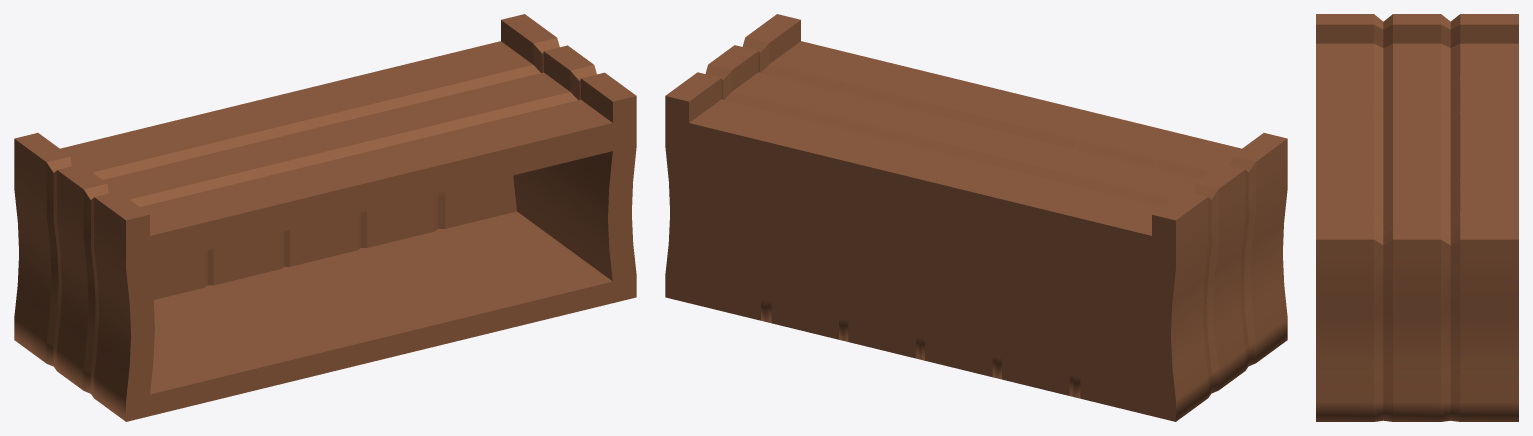
File: Estanteria2.fbx
3 renders of one model, left to right at view 1: azimuth 30°, elevation 25°; view 2: azimuth 150°, elevation 25°; view 3: azimuth 270°, elevation 25°, orthographic. The views are drawn at different scales.
Parts seen in each view (by area): view 1: Estanteria.004; view 2: Estanteria.004; view 3: Estanteria.004.
Part boxes in pixels (box(x1,y1,x2,y2)): Estanteria.004: box(14, 14, 636, 421); Estanteria.004: box(665, 14, 1287, 421); Estanteria.004: box(1316, 14, 1518, 421).
Bounding box in the file's own units: 329 × 124 × 125.
